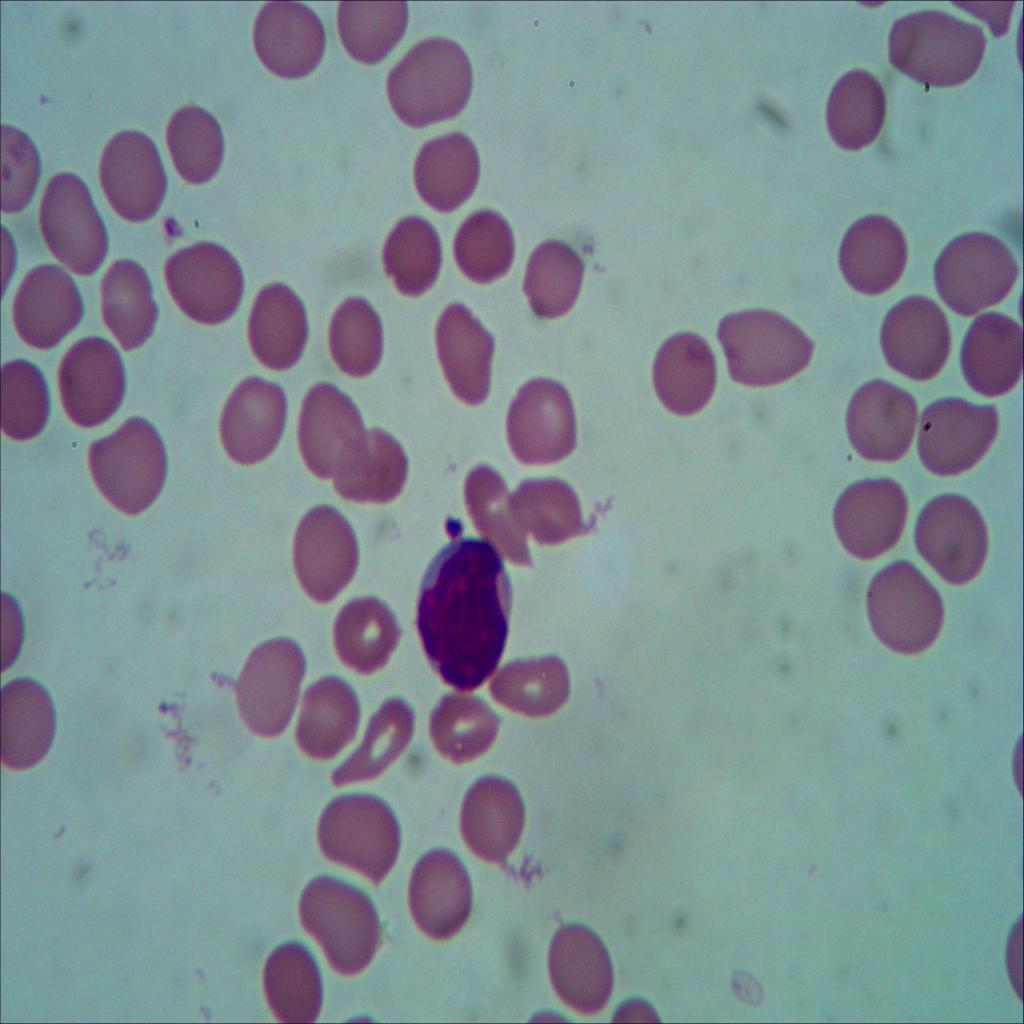Eritrosit: (879, 8, 994, 92), (80, 412, 171, 518), (297, 870, 383, 976), (383, 35, 474, 133), (499, 379, 590, 477), (713, 308, 818, 390), (288, 495, 362, 609), (824, 460, 914, 553), (91, 125, 173, 227), (862, 561, 947, 658), (405, 114, 485, 216), (914, 387, 1002, 479), (156, 243, 244, 331), (936, 222, 1022, 312), (315, 793, 403, 880), (38, 164, 108, 271), (439, 289, 499, 412), (323, 583, 404, 674), (648, 330, 724, 422), (245, 0, 328, 84), (335, 699, 416, 785), (239, 634, 304, 740), (218, 372, 288, 470), (240, 272, 310, 370), (54, 338, 130, 426), (456, 769, 524, 866), (330, 0, 414, 78), (379, 210, 450, 302), (542, 920, 616, 1008), (510, 474, 600, 546), (0, 677, 65, 776), (422, 687, 505, 764), (920, 495, 987, 590), (520, 235, 588, 328), (325, 294, 392, 388), (850, 377, 924, 462), (12, 260, 82, 349), (884, 288, 951, 380), (843, 211, 909, 303), (161, 104, 228, 194), (828, 70, 892, 163), (958, 310, 1024, 400), (408, 849, 475, 937), (289, 679, 362, 758), (491, 652, 573, 722), (471, 460, 524, 568), (450, 206, 518, 290), (258, 940, 325, 1024), (0, 358, 57, 448), (100, 258, 156, 348)
Limfoblast: (403, 517, 516, 693)
Platelet: (158, 205, 186, 252)
